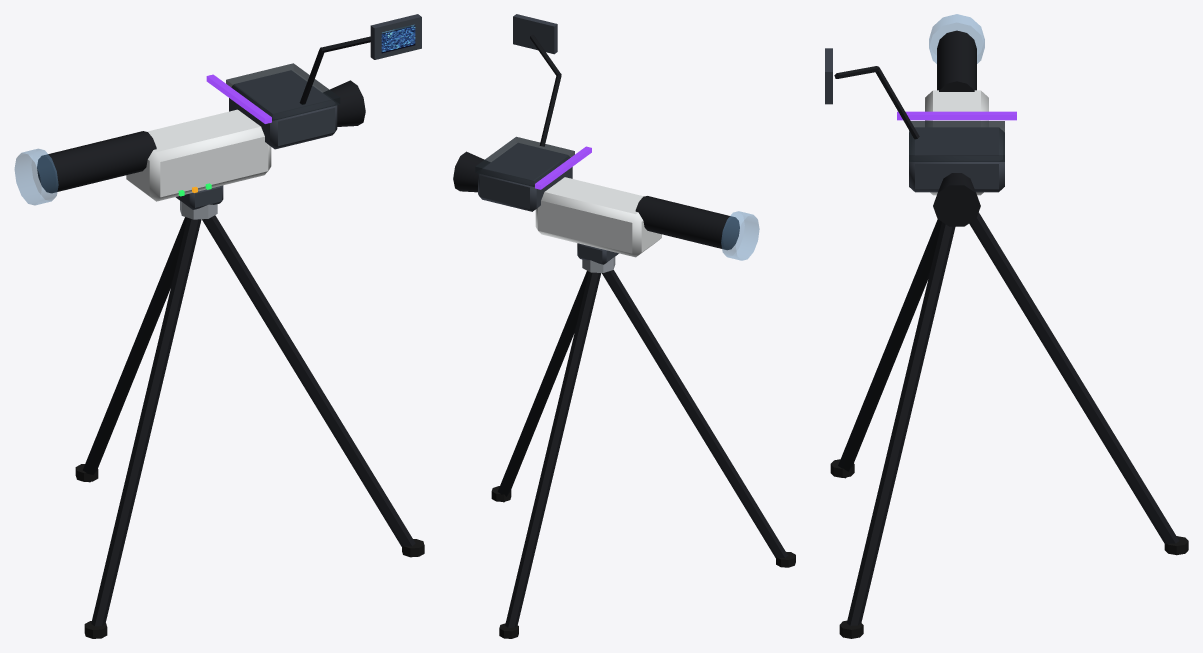
The model's file is telescope_spectrograph_tripod.glb.
3 renders of one model, left to right at view 1: azimuth 30°, elevation 25°; view 2: azimuth 150°, elevation 25°; view 3: azimuth 270°, elevation 25°, orthographic. The views are drawn at different scales.
Parts seen in each view (by area): view 1: telescope_spectrograph_tripod; view 2: telescope_spectrograph_tripod; view 3: telescope_spectrograph_tripod.
Part boxes in pixels (bbox=[...]): telescope_spectrograph_tripod: bbox=[14, 14, 424, 638]; telescope_spectrograph_tripod: bbox=[453, 14, 795, 638]; telescope_spectrograph_tripod: bbox=[825, 14, 1188, 638].
Size of the model in its own units: 1.02 by 1.55 by 0.9119.
11 materials, 1 textured.
